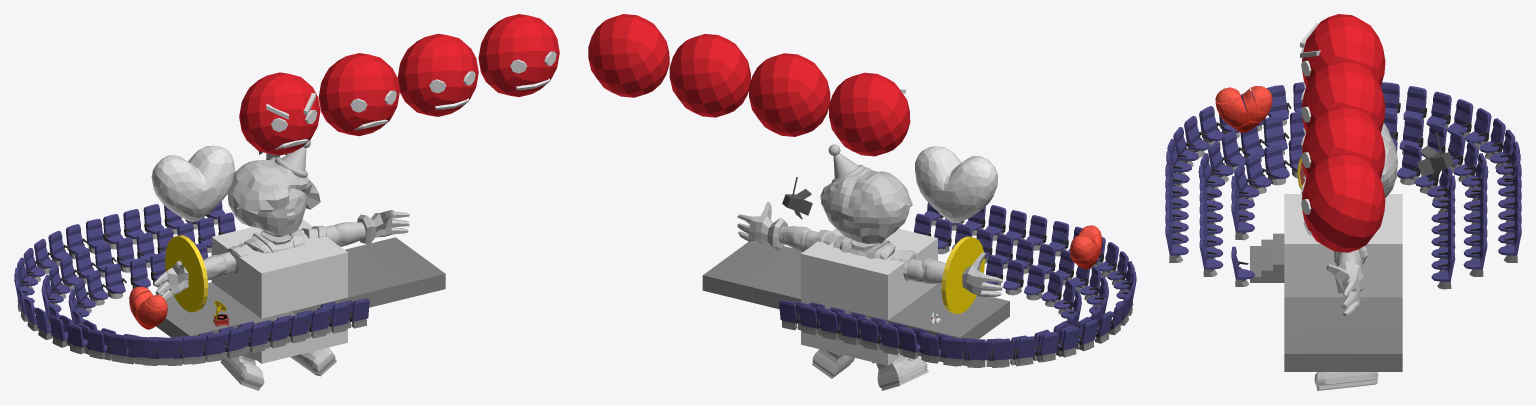
Rendered from weelClown.fbx.
3 views of the same model, side by side, from view 1: azimuth 30°, elevation 25°; view 2: azimuth 150°, elevation 25°; view 3: azimuth 270°, elevation 25° (orthographic). The views are drawn at different scales.
Parts seen in each view (by area): view 1: Seats, Clown, Cube, Plane, Cube.002, Cube.001, Cube.004, Cube.003, Chair.005, Heart, Chair.004, Wheel (+1 smaller); view 2: Seats, Clown, Cube, Plane, Cube.001, Cube.004, Cube.002, Cube.003, Chair.005, Heart, Chair.004, Wheel (+2 smaller); view 3: Seats, Plane, Cube, Cube.004, Cube.001, Cube.003, Cube.002, Clown, Chair.005, Chair.004, Light.001, HeartPart_2 (+2 smaller).
Boxes of the visible parts, left/top/right/bottom form: Seats: left=14, top=218, right=336, bottom=365; Clown: left=153, top=140, right=409, bottom=390; Cube: left=211, top=219, right=347, bottom=363; Plane: left=156, top=237, right=445, bottom=345; Cube.002: left=318, top=53, right=399, bottom=136; Cube.001: left=239, top=72, right=320, bottom=155; Cube.004: left=478, top=14, right=559, bottom=96; Cube.003: left=397, top=33, right=478, bottom=116; Chair.005: left=103, top=201, right=369, bottom=353; Heart: left=151, top=145, right=234, bottom=221; Chair.004: left=116, top=212, right=353, bottom=354; Wheel: left=165, top=235, right=208, bottom=312; Seats: left=809, top=221, right=1136, bottom=367; Clown: left=737, top=144, right=1002, bottom=390; Cube: left=801, top=228, right=937, bottom=365; Plane: left=702, top=241, right=1009, bottom=339; Cube.001: left=829, top=72, right=910, bottom=156; Cube.004: left=588, top=14, right=669, bottom=97; Cube.002: left=749, top=53, right=830, bottom=136; Cube.003: left=669, top=34, right=750, bottom=117; Chair.005: left=779, top=202, right=1047, bottom=355; Heart: left=915, top=146, right=997, bottom=223; Chair.004: left=795, top=213, right=1033, bottom=354; Wheel: left=941, top=236, right=984, bottom=313; Seats: left=1166, top=82, right=1520, bottom=289; Plane: left=1250, top=233, right=1402, bottom=371; Cube: left=1284, top=194, right=1402, bottom=297; Cube.004: left=1301, top=152, right=1385, bottom=252; Cube.001: left=1300, top=14, right=1385, bottom=87; Cube.003: left=1301, top=105, right=1385, bottom=180; Cube.002: left=1301, top=60, right=1385, bottom=133; Clown: left=1314, top=123, right=1397, bottom=390; Chair.005: left=1165, top=164, right=1521, bottom=262; Chair.004: left=1199, top=178, right=1487, bottom=276; Light.001: left=1417, top=132, right=1453, bottom=181; HeartPart_2: left=1215, top=94, right=1248, bottom=127.
Bounding box in the file's own units: 1205 × 665 × 604.
